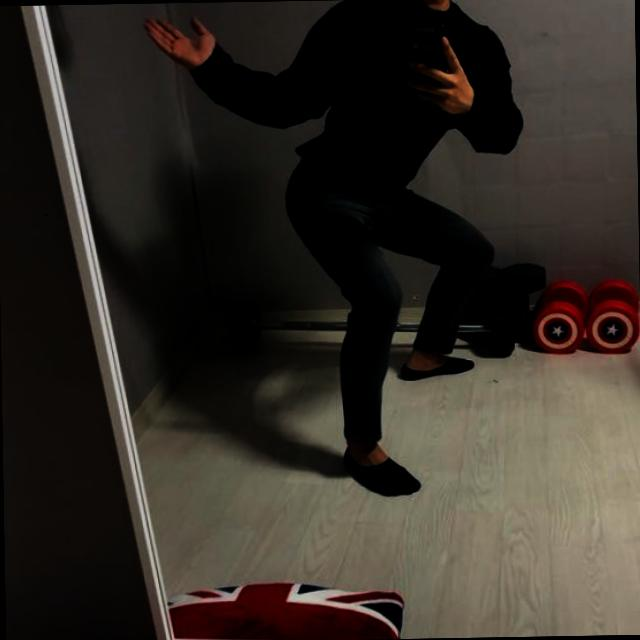denimpants: (287, 160, 502, 451)
longsleeve: (182, 0, 522, 192)
